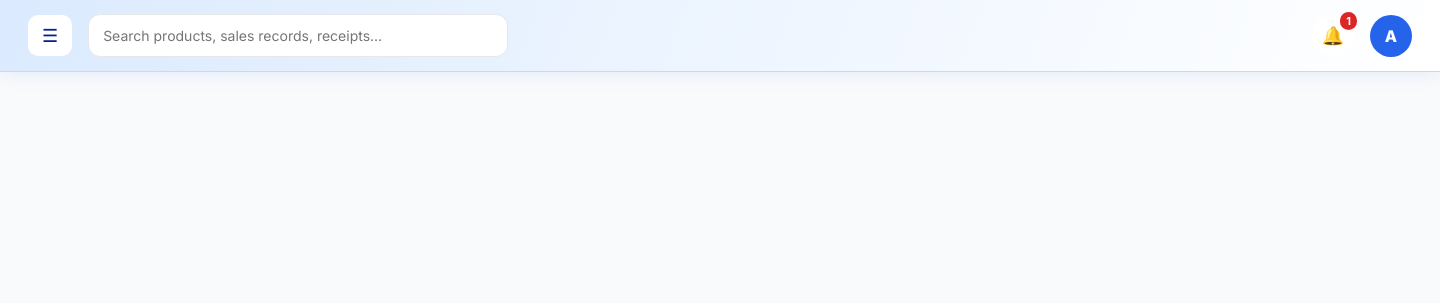
TopNavbar › closes the profile menu when the user clicks elsewhere or presses Escape
Click the button named "user profile".
click(1391, 36)  # box [1370,14,1412,56]
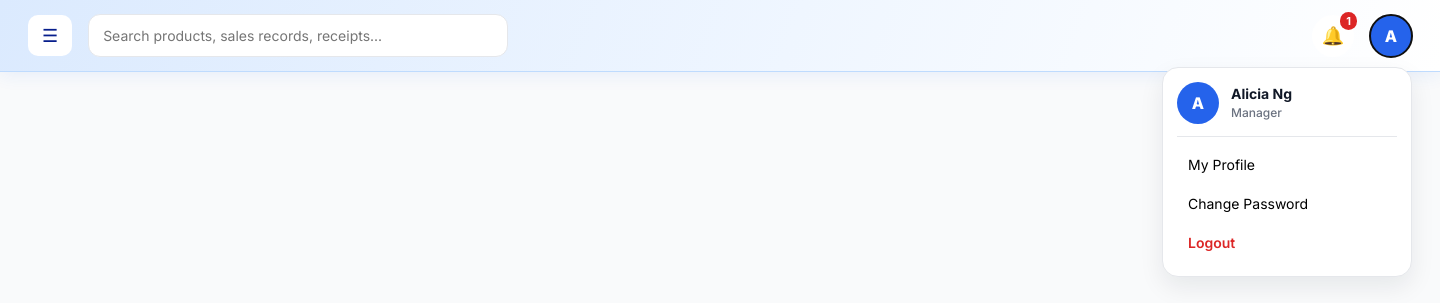
Check: the menu is shown, box [1162,66,1412,276]
Check: the button named "user profile" is expanded, box [1370,14,1412,56]
Click the field labelled "Search products, sales records, receipts...".
click(298, 36)  # box [88,14,508,57]
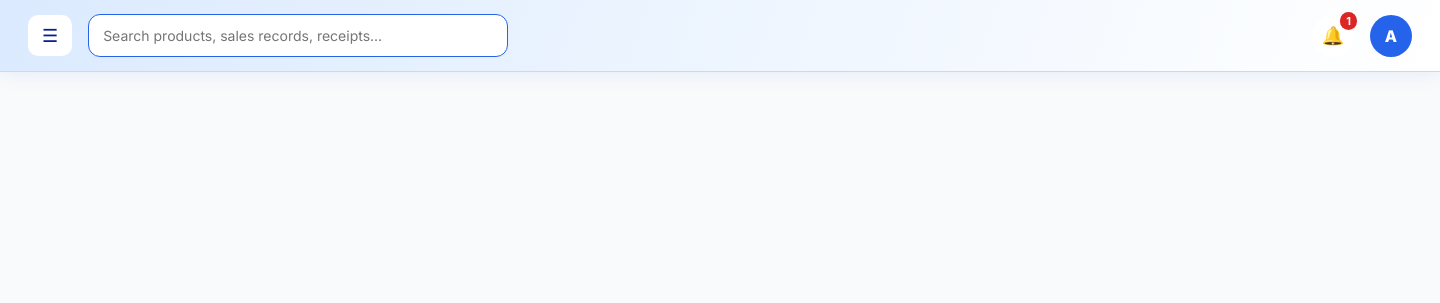
Check: the menu is gone
Click the button named "user profile".
click(1391, 36)  # box [1370,14,1412,56]
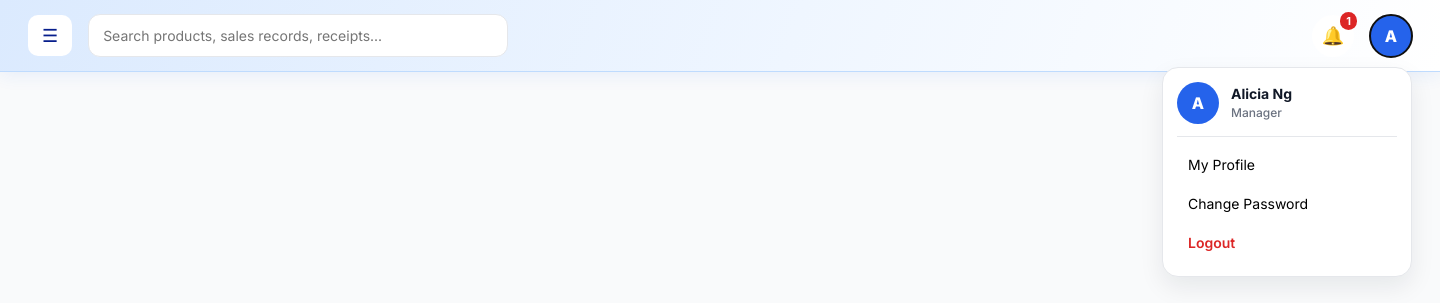
Press Escape
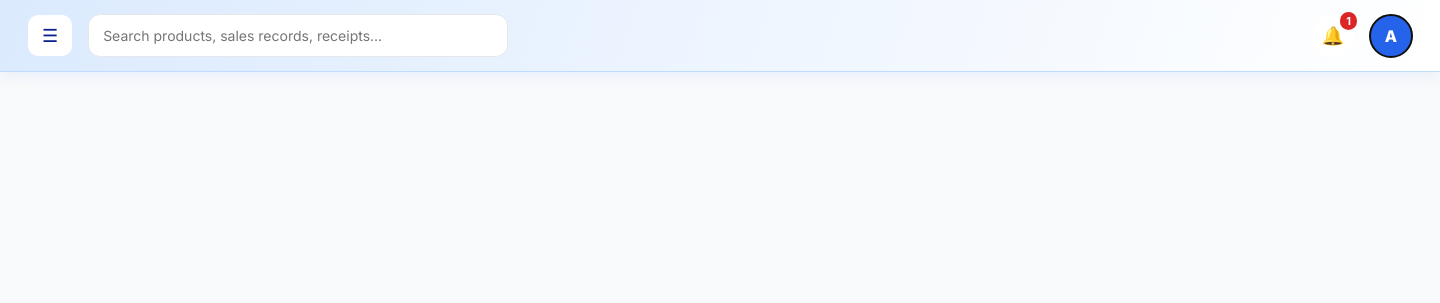
Check: the menu is gone
